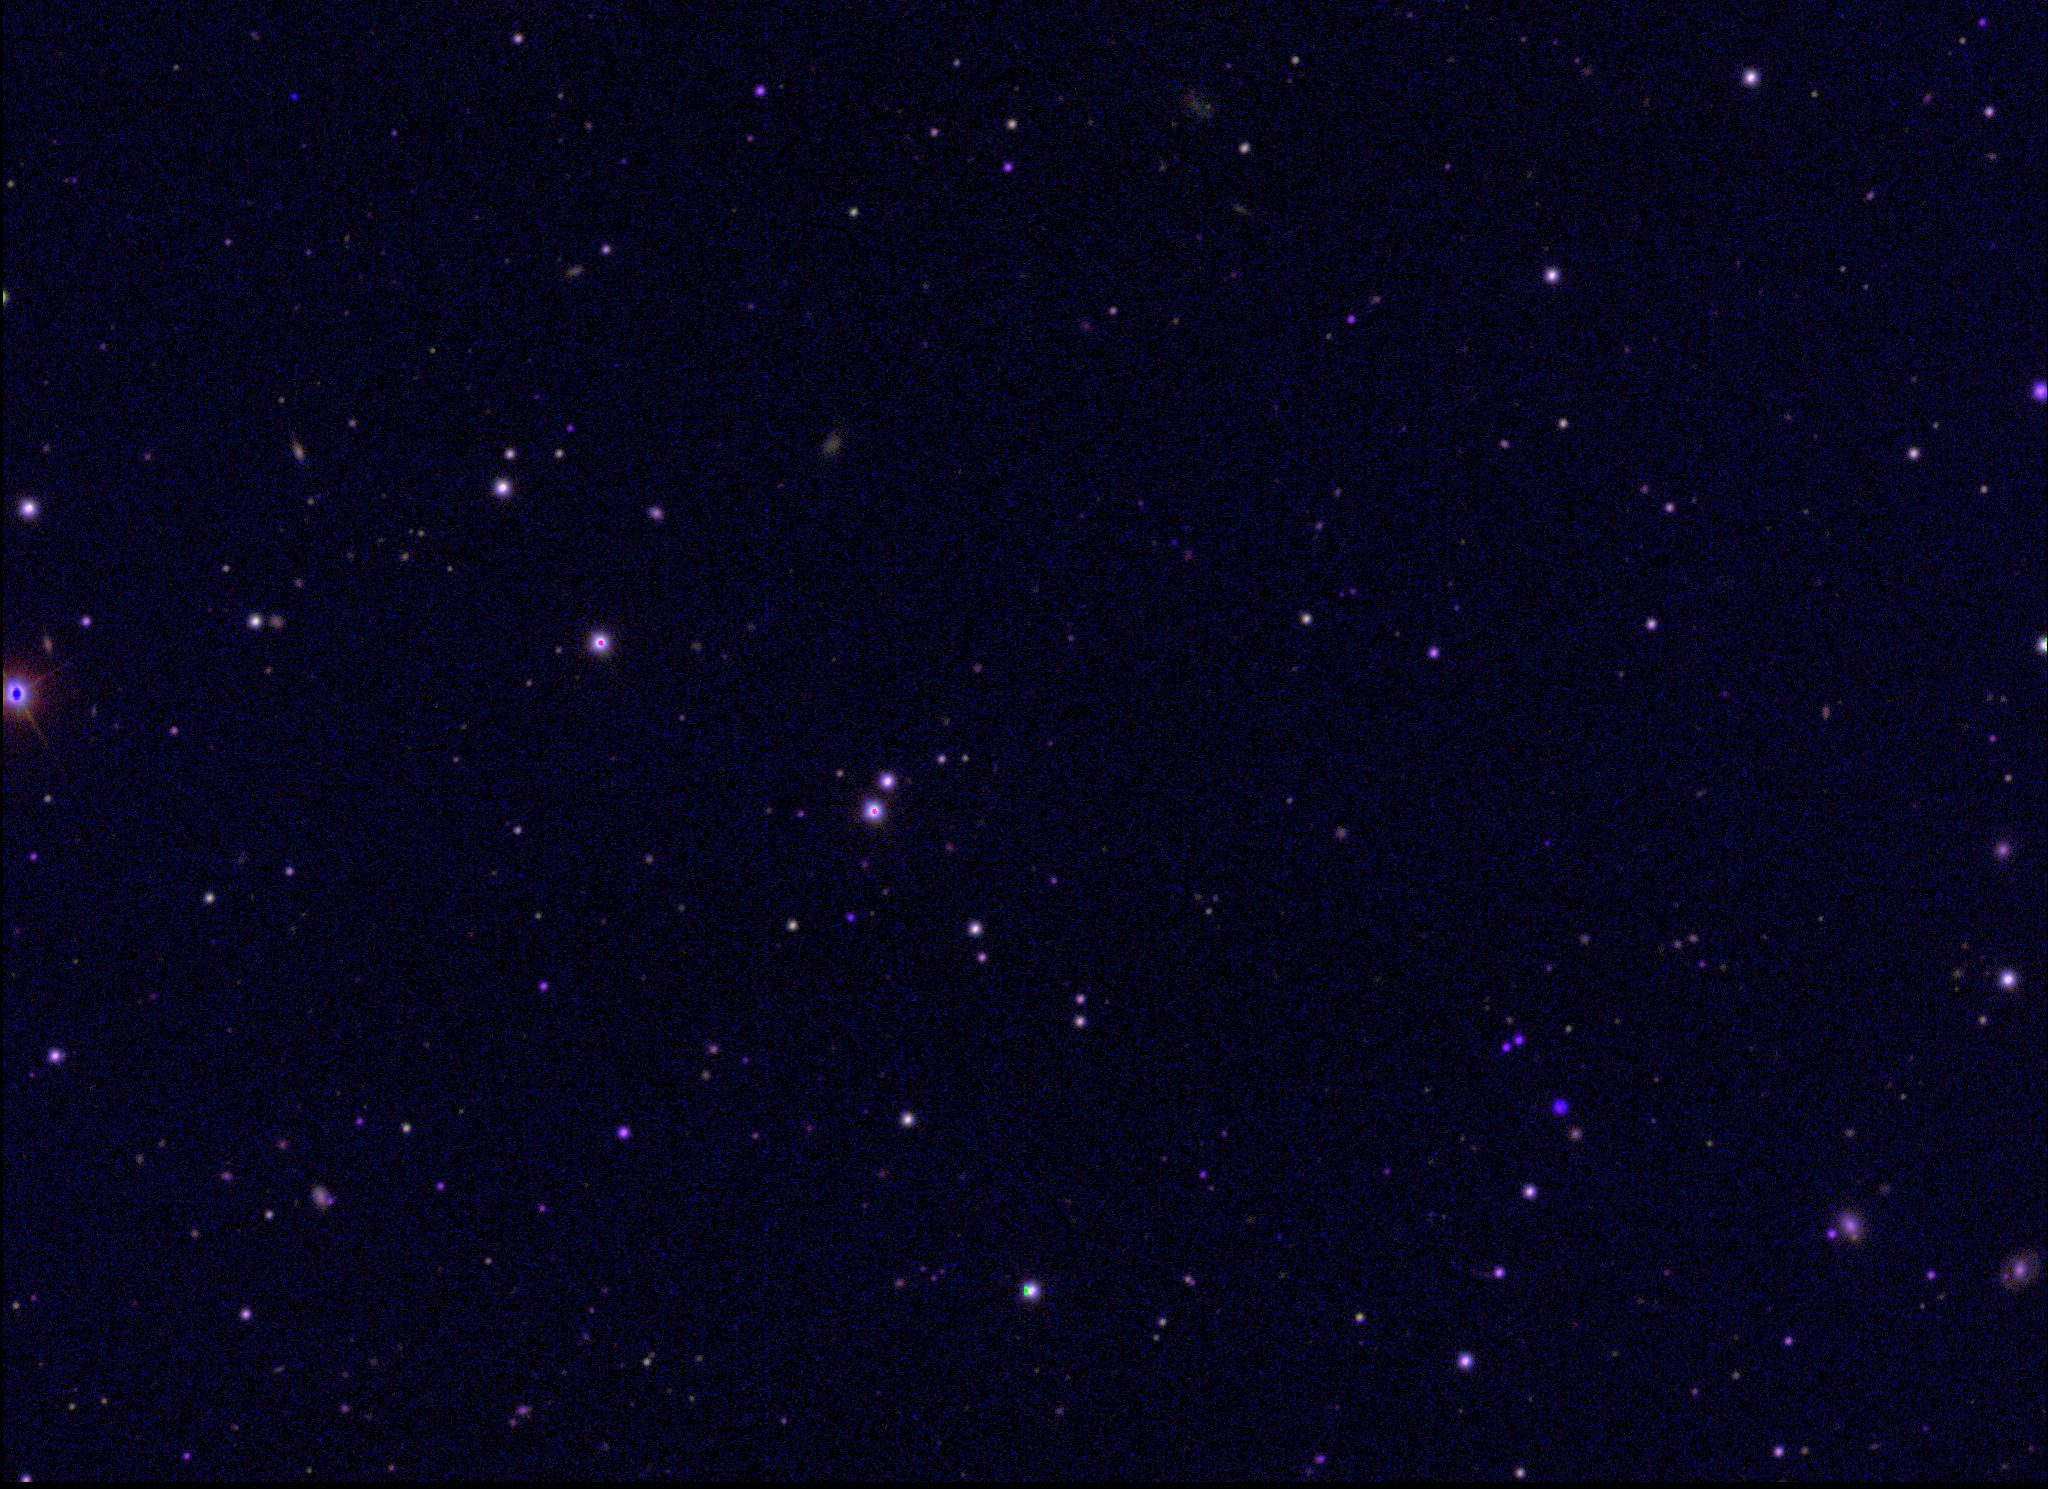L: (286, 91, 301, 103)
